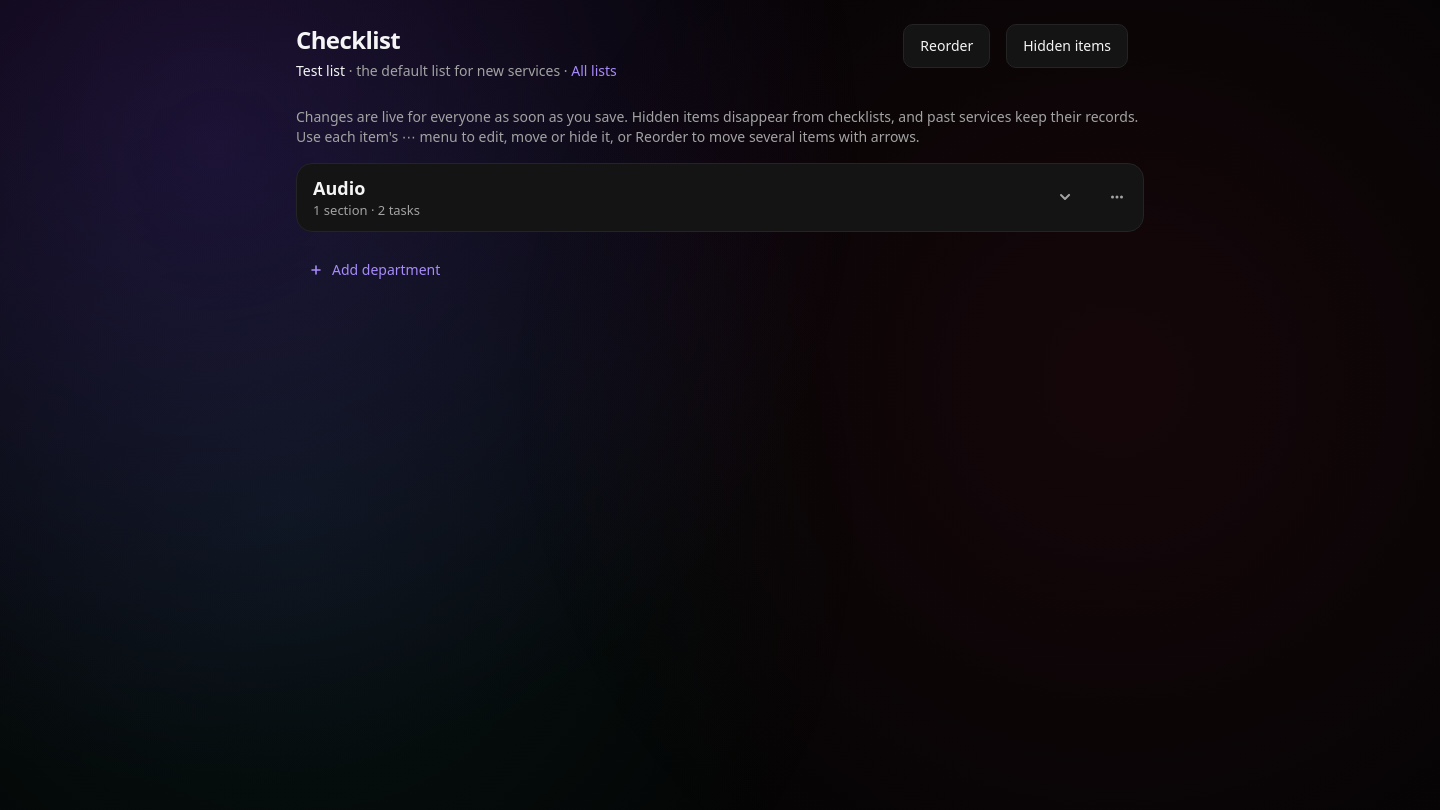
checklist editor › renames inline: Enter saves through the server, and the new name shows once accepted
Check: the text "Audio" is shown, box [313,176,365,200]
Click the button named "Actions for department: Audio" at (1117, 197), box [1095,175,1139,219]
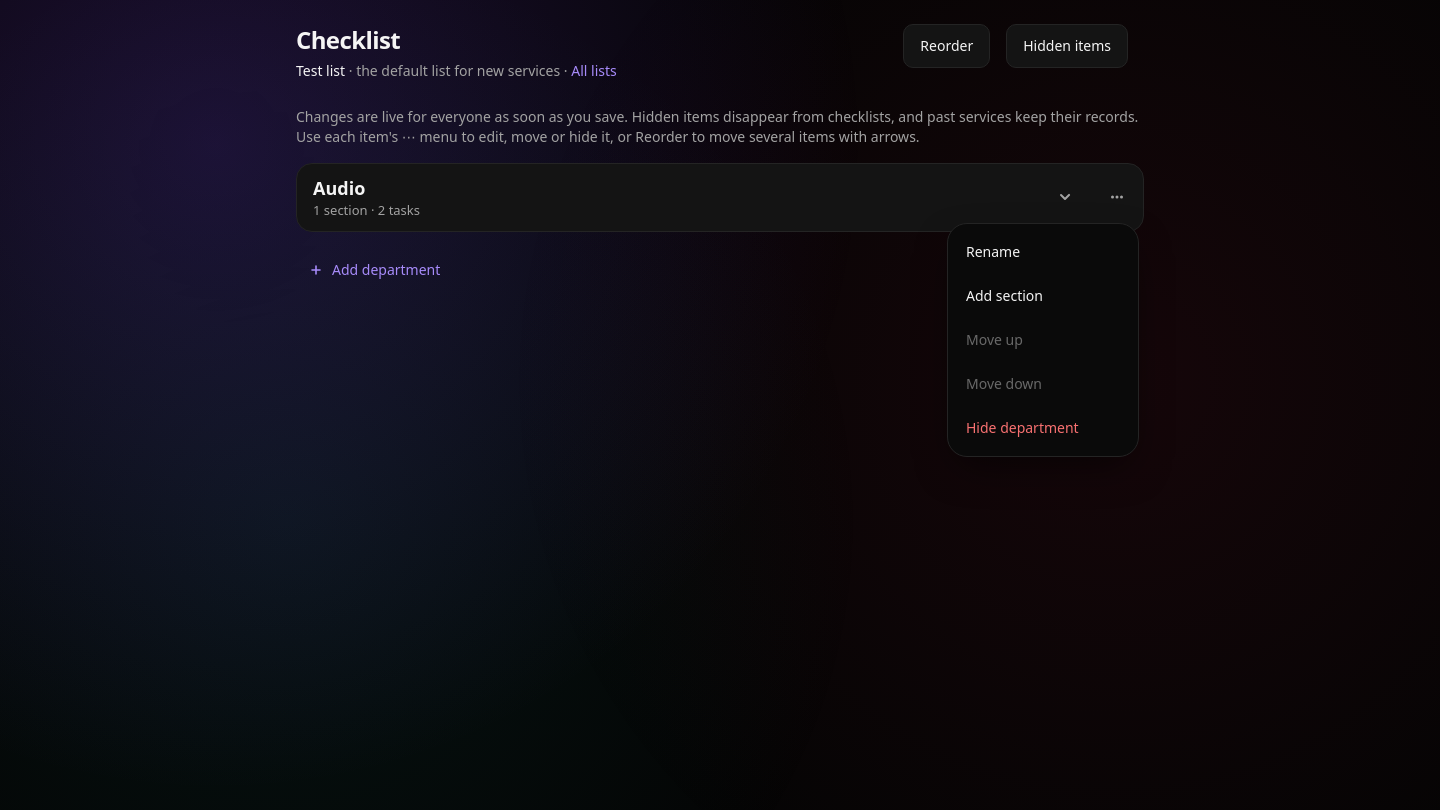
Click the button "Rename" at (1043, 252), box [954,230,1132,274]
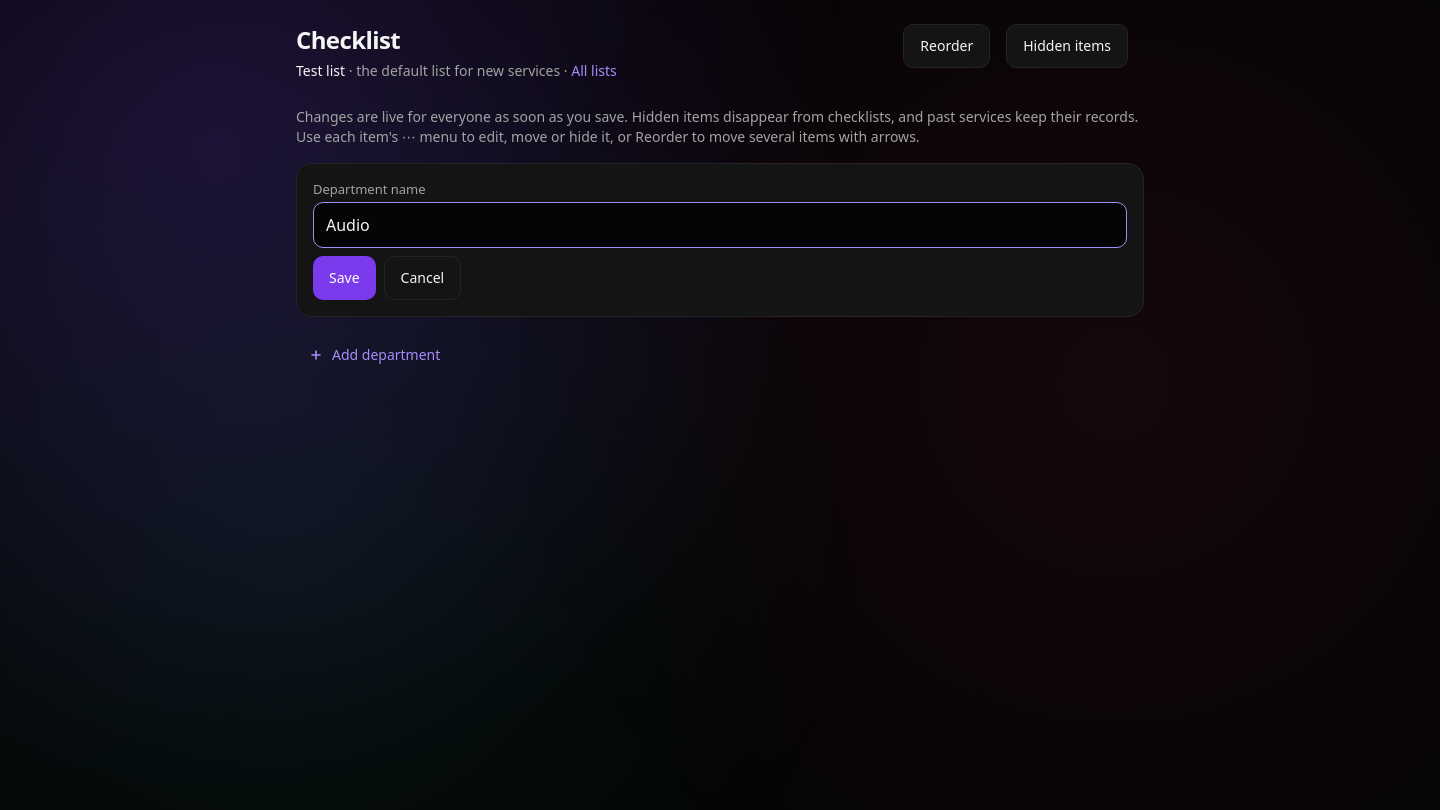
Check: the field labelled "Department name" holds "Audio"
Replace the text in the field labelled "Department name" with "  Audio Engineer  " at (720, 225), box [313,202,1127,248]
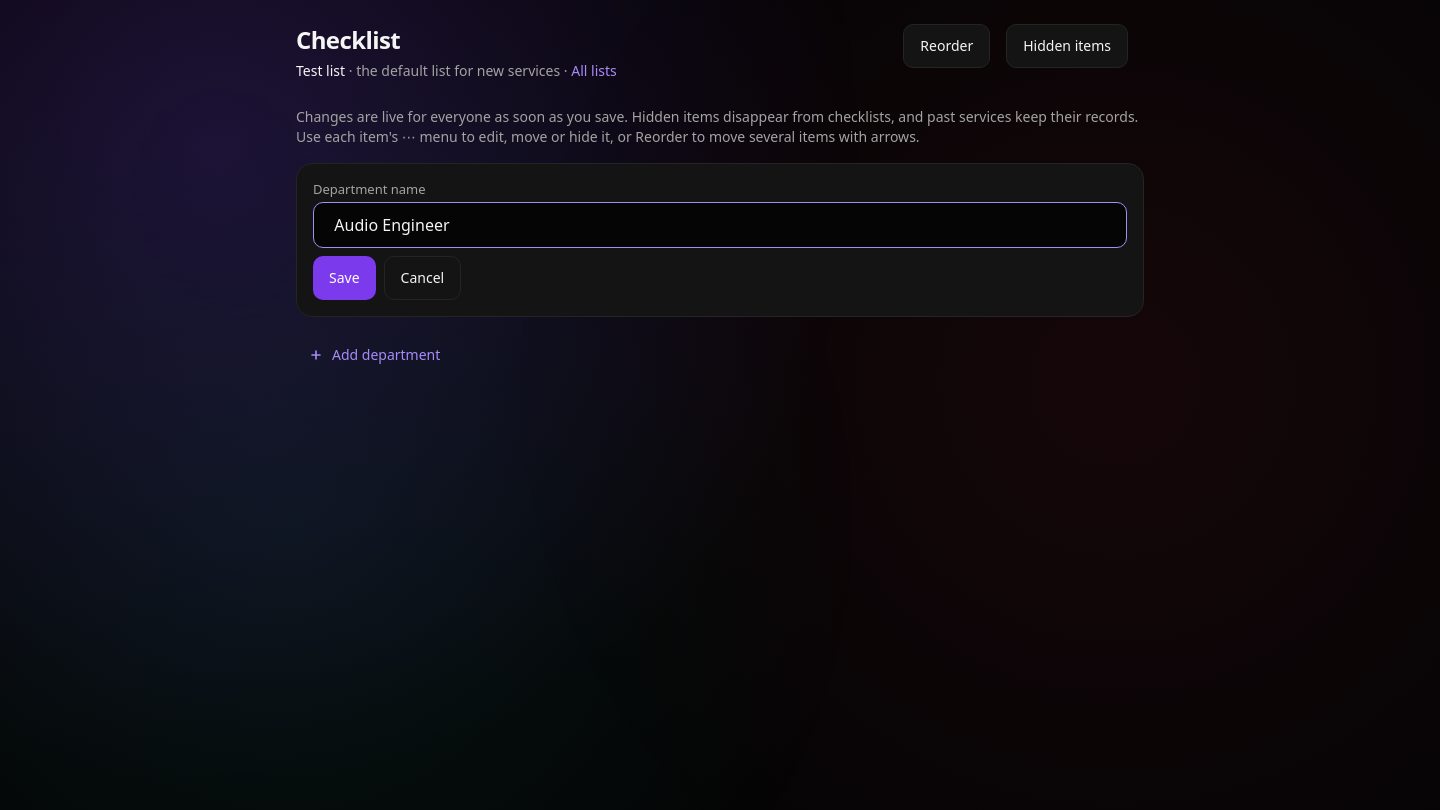
Press Enter in the field labelled "Department name", box [313,202,1127,248]
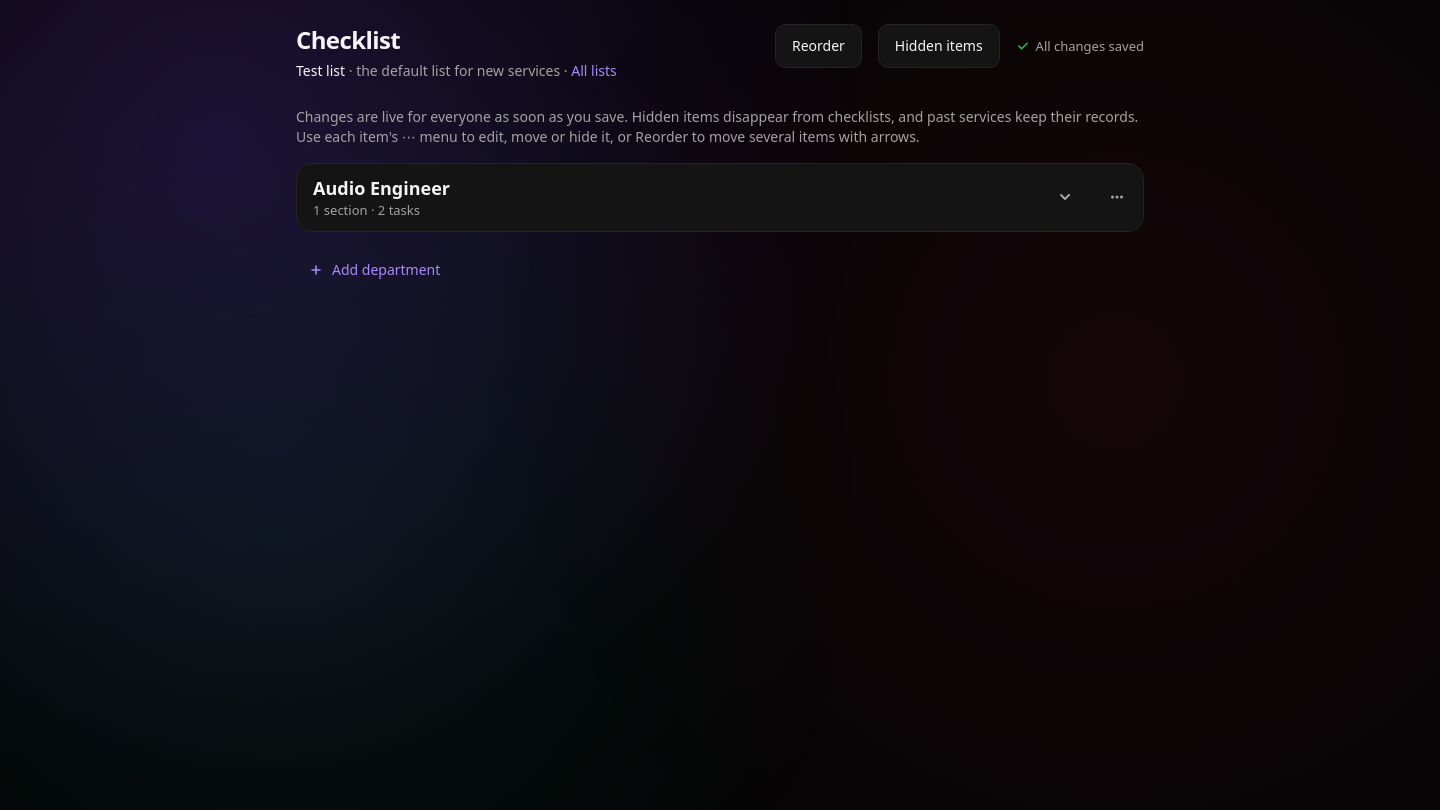
Check: the text "Audio Engineer" is shown, box [313,176,450,200]
Check: the label labelled "Department name" is gone
Check: the text "All changes saved" is shown, box [1036,37,1144,55]
